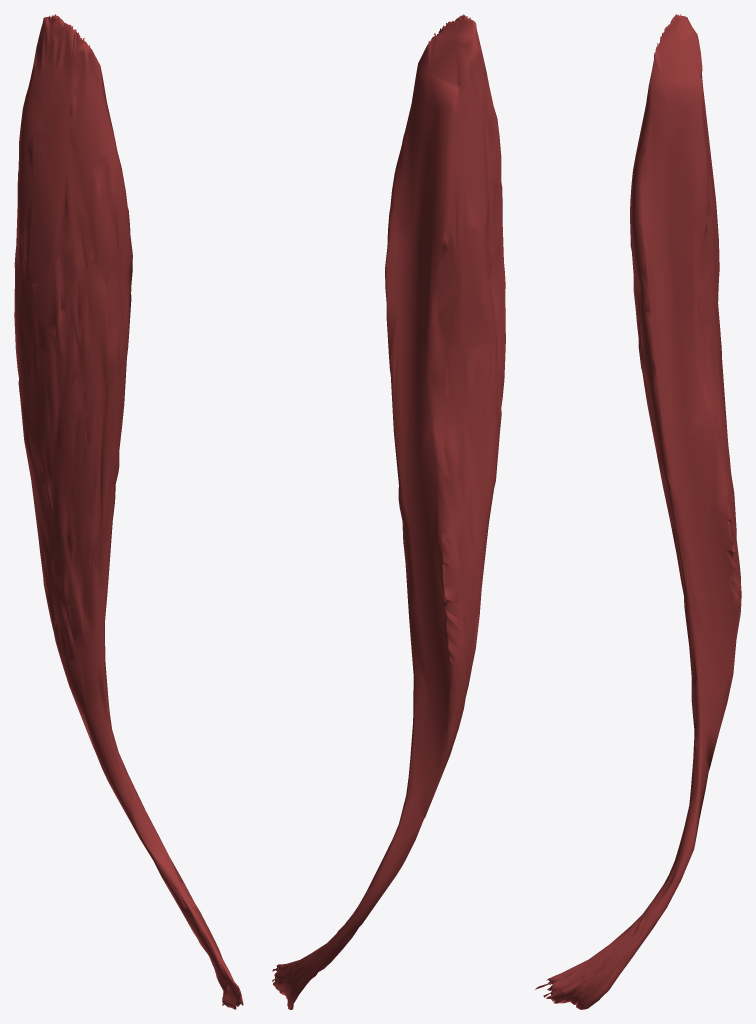
The model's file is tibialis-anterior-muscle-r.glb.
3 views of the same model, side by side, from view 1: azimuth 30°, elevation 25°; view 2: azimuth 210°, elevation 25°; view 3: azimuth 270°, elevation 25° (orthographic). The views are drawn at different scales.
Parts seen in each view (by area): view 1: Tibialis anterior muscle.r; view 2: Tibialis anterior muscle.r; view 3: Tibialis anterior muscle.r.
Part boxes in pixels (x1,y1,x2,y2): Tibialis anterior muscle.r: (14, 14, 243, 1009); Tibialis anterior muscle.r: (272, 14, 505, 1009); Tibialis anterior muscle.r: (535, 14, 741, 1009).
Bounding box in the file's own units: 0.0608 × 0.3689 × 0.0737.
